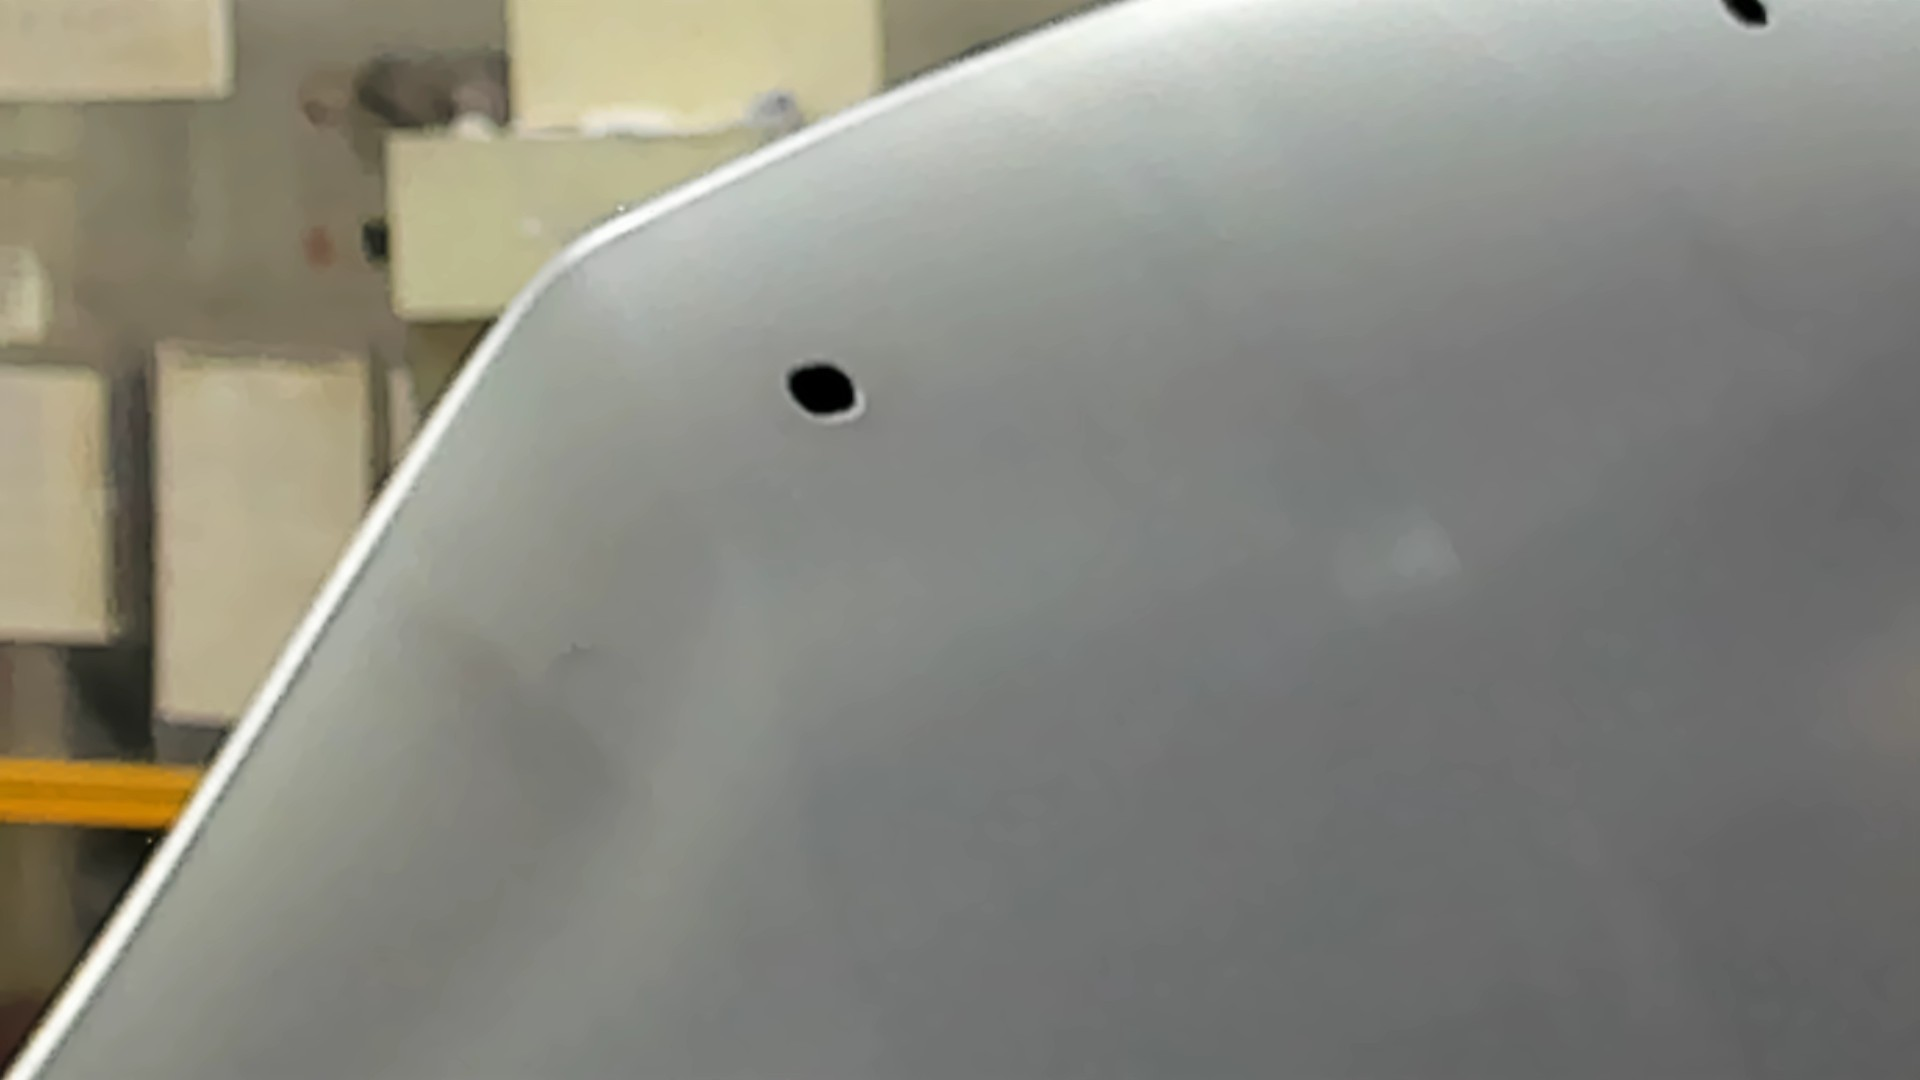amorfo: (781, 349, 870, 433), (1704, 1, 1784, 40)
